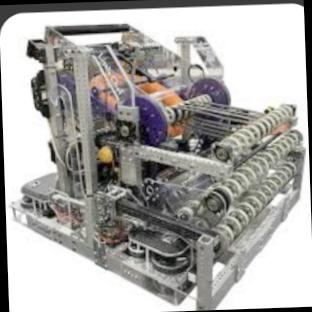Robot: (10, 24, 305, 310)
